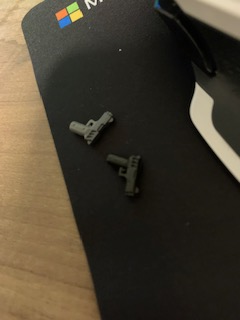pistol: (105, 151, 142, 197), (71, 109, 115, 146)
